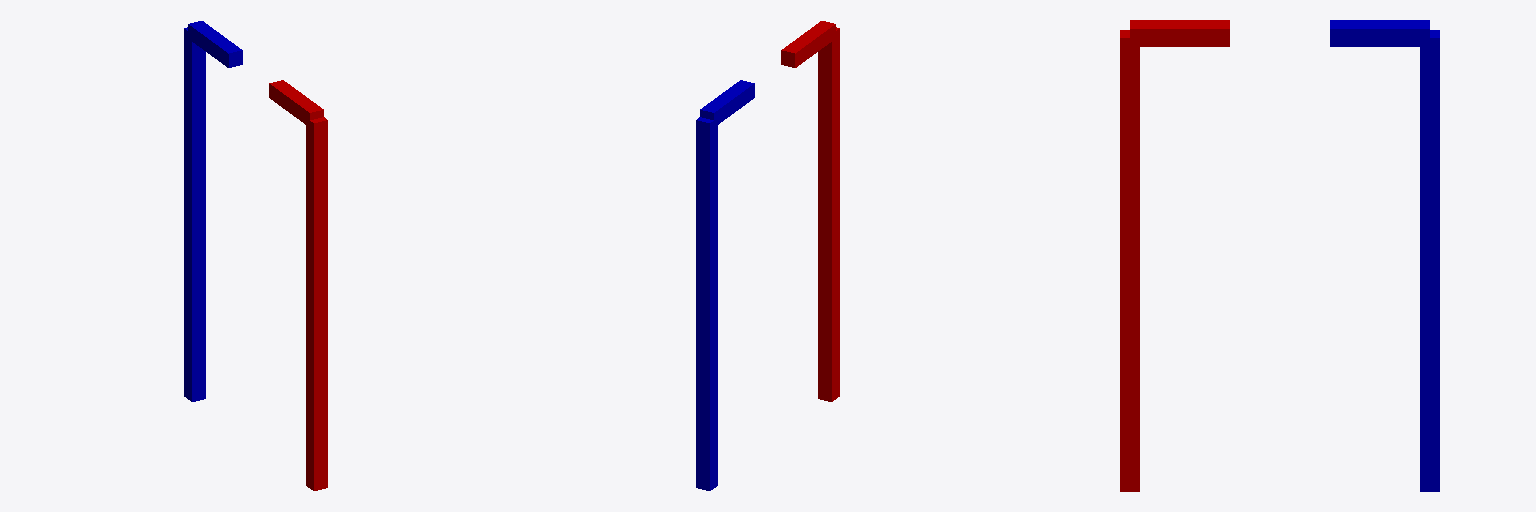
URDF robot description (Airbot):
<?xml version="1.0" ?>
<!-- =================================================================================== -->
<!-- |    This document was autogenerated by xacro from ../gcop_ctrl/params/airbot3.xacro | -->
<!-- |    EDITING THIS FILE BY HAND IS NOT RECOMMENDED                                 | -->
<!-- =================================================================================== -->
<robot name="Airbot" xmlns:xacro="http://www.ros.org/wiki/xacro">
  <!--Structural Properties-->
  <link name="baselink"/>
  <link name="airbase">
    <visual>
      <origin rpy="0 0 0" xyz="0.0 0.0 0.1"/>
      <geometry>
        <mesh filename="package://gcop_urdf/meshes/pelican1.dae" scale="0.025 0.025 0.025"/>
      </geometry>
      <material name="blue">
        <color rgba="0 0 0.8 1"/>
      </material>
    </visual>
    <inertial>
      <mass value="1"/>
      <inertia ixx="0.00432" ixy="0.0" ixz="0.0" iyy="0.00432" iyz="0.0" izz="0.00841"/>
    </inertial>
  </link>
  <link name="link1">
    <visual>
      <origin rpy="0 0 0" xyz="0.0 0.05 0.0"/>
      <material name="blue">
        <color rgba="0 0 0.8 1"/>
      </material>
      <geometry>
        <box size="0.02 0.1 0.02"/>
      </geometry>
    </visual>
    <inertial>
      <origin rpy="0 0 0" xyz="0.0 0.05 0.0"/>
      <mass value="0.1"/>
      <inertia ixx="0.000346666666667" ixy="0.0" ixz="0.0" iyy="2.66666666667e-05" iyz="0.0" izz="0.000346666666667"/>
    </inertial>
  </link>
  <link name="link2">
    <visual>
      <origin rpy="0 0 0" xyz="0.0 0.0 -0.15"/>
      <geometry>
        <box size="0.02 0.02 0.3"/>
      </geometry>
      <material name="blue">
        <color rgba="0 0 0.8 1"/>
      </material>
    </visual>
    <inertial>
      <origin rpy="0 0 0" xyz="0.0 0.0 -0.15"/>
      <mass value="0.3"/>
      <inertia ixx="0.00904" ixy="0.0" ixz="0.0" iyy="0.00904" iyz="0.0" izz="8e-05"/>
    </inertial>
  </link>
  <link name="link3">
    <visual>
      <origin rpy="0 0 0" xyz="0.0 0.0 -0.1"/>
      <geometry>
        <box size="0.02 0.02 0.2"/>
      </geometry>
      <material name="blue">
        <color rgba="0 0 0.8 1"/>
      </material>
    </visual>
    <inertial>
      <origin rpy="0 0 0" xyz="0.0 0.0 -0.1"/>
      <mass value="0.2"/>
      <inertia ixx="0.00269333333333" ixy="0.0" ixz="0.0" iyy="0.00269333333333" iyz="0.0" izz="5.33333333333e-05"/>
    </inertial>
  </link>
  <link name="link4">
    <visual>
      <origin rpy="0 0 0" xyz="0.0 -0.05 0.0"/>
      <material name="red">
        <color rgba="0.8 0 0 1"/>
      </material>
      <geometry>
        <box size="0.02 0.1 0.02"/>
      </geometry>
    </visual>
    <inertial>
      <origin rpy="0 0 0" xyz="0.0 -0.05 0.0"/>
      <mass value="0.1"/>
      <inertia ixx="0.000346666666667" ixy="0.0" ixz="0.0" iyy="2.66666666667e-05" iyz="0.0" izz="0.000346666666667"/>
    </inertial>
  </link>
  <link name="link5">
    <visual>
      <origin rpy="0 0 0" xyz="0.0 0.0 -0.15"/>
      <geometry>
        <box size="0.02 0.02 0.3"/>
      </geometry>
      <material name="red">
        <color rgba="0.8 0 0 1"/>
      </material>
    </visual>
    <inertial>
      <origin rpy="0 0 0" xyz="0.0 0.0 -0.15"/>
      <mass value="0.3"/>
      <inertia ixx="0.00904" ixy="0.0" ixz="0.0" iyy="0.00904" iyz="0.0" izz="8e-05"/>
    </inertial>
  </link>
  <link name="link6">
    <visual>
      <origin rpy="0 0 0" xyz="0.0 0.0 -0.1"/>
      <geometry>
        <box size="0.02 0.02 0.2"/>
      </geometry>
      <material name="red">
        <color rgba="0.8 0 0 1"/>
      </material>
    </visual>
    <inertial>
      <origin rpy="0 0 0" xyz="0.0 0.0 -0.1"/>
      <mass value="0.2"/>
      <inertia ixx="0.00269333333333" ixy="0.0" ixz="0.0" iyy="0.00269333333333" iyz="0.0" izz="5.33333333333e-05"/>
    </inertial>
  </link>
  <!-- Joints -->
  <joint name="basetoairbase" type="fixed">
    <parent link="baselink"/>
    <child link="airbase"/>
    <origin rpy="0 0 0" xyz="0 0 0"/>
  </joint>
  <joint name="airbasetolink1" type="revolute">
    <parent link="airbase"/>
    <child link="link1"/>
    <origin rpy="0 0 0" xyz="0 0.05 -0.05"/>
    <axis xyz="0 0 1"/>
    <limit effort="30" lower="-5" upper="5" velocity="5.0"/>
  </joint>
  <joint name="link1tolink2" type="revolute">
    <parent link="link1"/>
    <child link="link2"/>
    <origin rpy="0 0 0" xyz="0 0.1 0"/>
    <axis xyz="0 1 0"/>
    <limit effort="30" lower="-5" upper="5" velocity="5.0"/>
  </joint>
  <joint name="link2tolink3" type="revolute">
    <parent link="link2"/>
    <child link="link3"/>
    <origin rpy="0 0 0" xyz="0 0 -0.3"/>
    <axis xyz="0 1 0"/>
    <limit effort="30" lower="-5" upper="5" velocity="5.0"/>
  </joint>
  <joint name="airbasetolink4" type="revolute">
    <parent link="airbase"/>
    <child link="link4"/>
    <origin rpy="0 0 0" xyz="0 -0.05 -0.05"/>
    <axis xyz="0 0 1"/>
    <limit effort="30" lower="-5" upper="5" velocity="5.0"/>
  </joint>
  <joint name="link4tolink5" type="revolute">
    <parent link="link4"/>
    <child link="link5"/>
    <origin rpy="0 0 0" xyz="0 -0.1 0"/>
    <axis xyz="0 1 0"/>
    <limit effort="30" lower="-5" upper="5" velocity="5.0"/>
  </joint>
  <joint name="link5tolink6" type="revolute">
    <parent link="link5"/>
    <child link="link6"/>
    <origin rpy="0 0 0" xyz="0 0 -0.3"/>
    <axis xyz="0 1 0"/>
    <limit effort="30" lower="-5" upper="5" velocity="5.0"/>
  </joint>
</robot>

--- Facts derived from the render (not from the file) ---
The picture shows the robot from 3 angles, left to right: view 1: azimuth 30°, elevation 25°; view 2: azimuth 150°, elevation 25°; view 3: azimuth 270°, elevation 25°; orthographic projection.
Model Airbot with 8 links and 7 joints (6 revolute, 1 fixed), rooted at baselink, posed every joint at zero.
Visible links, largest first — view 1: link5, link2, link6, link3, link1, link4; view 2: link2, link5, link3, link6, link4, link1; view 3: link2, link5, link3, link6, link4, link1.
Link boxes in pixels (x1,y1,x2,y2): link5: (306,117,327,343); link2: (184,27,205,254); link6: (306,339,327,490); link3: (184,250,205,401); link1: (188,21,242,67); link4: (269,80,323,127); link2: (696,117,717,343); link5: (818,27,839,254); link3: (696,339,717,490); link6: (818,250,839,401); link4: (781,21,835,67); link1: (700,80,754,127); link2: (1420,30,1439,309); link5: (1120,30,1139,309); link3: (1420,310,1439,491); link6: (1120,310,1139,491); link4: (1130,20,1229,46); link1: (1330,20,1429,46).
Size in the robot's own frame: 0.02 by 0.32 by 0.51 metres.
0 mesh visuals loaded from 1 distinct referenced files (none loaded); not drawn: 1 (reference not matched to a file when rendering).